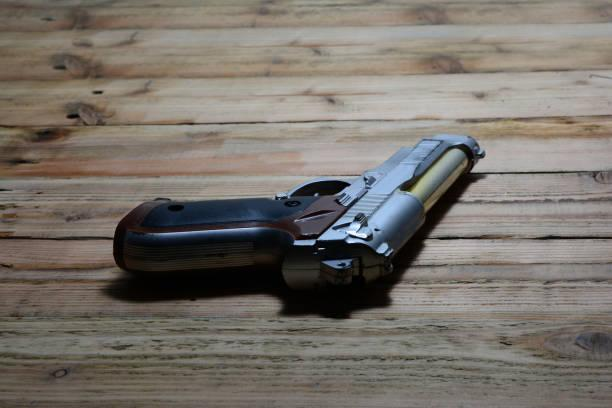weapon: (109, 128, 488, 295)
